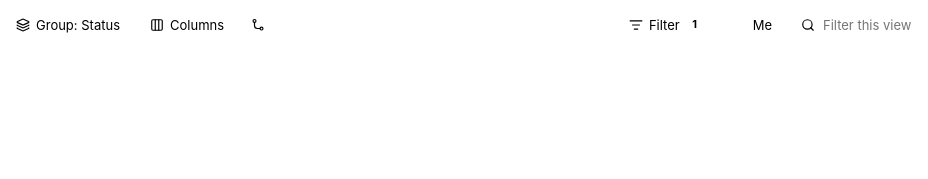
Test: Toolbar page actions › Subtasks button › explains each mode with the hint Matching issues only
This screenshot has width=928, height=179.
Click the button named "Subtasks: Hidden". click: (258, 25)
box: [243,10,273,40]
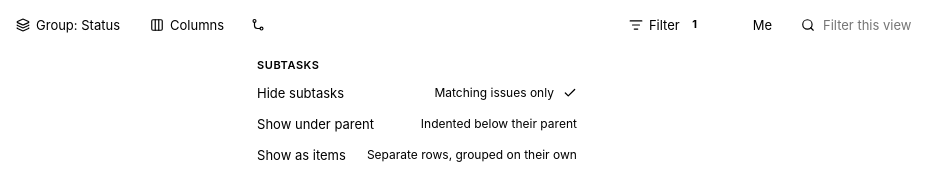
Expected: the text "Matching issues only" is shown, [434,85,554,102]
